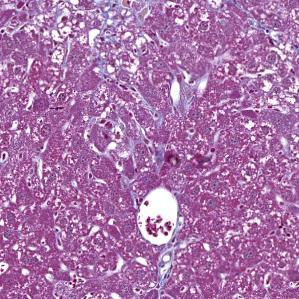fibrosis: (94, 20, 146, 69)
